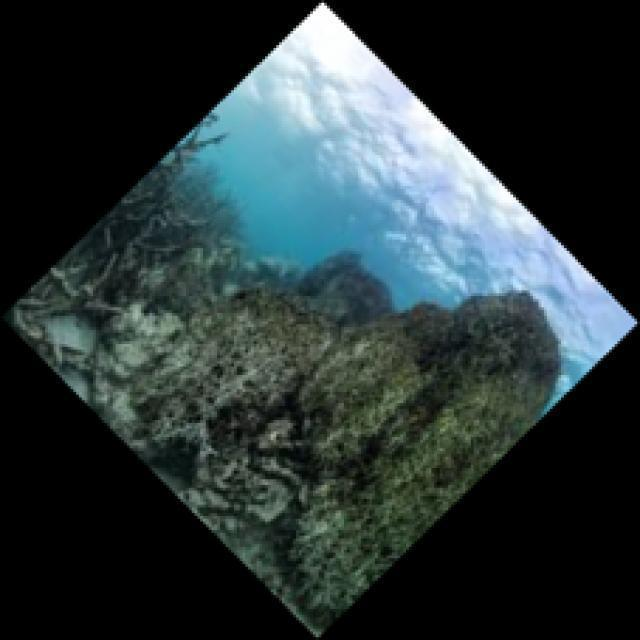Dead Coral: (56, 132, 278, 345)
